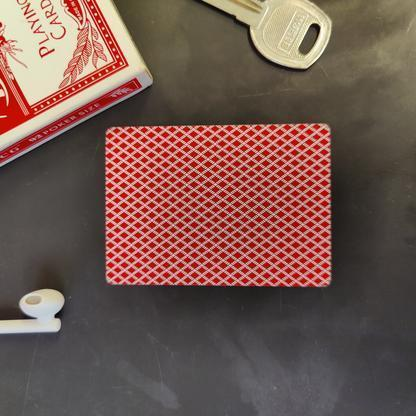card: (100, 121, 335, 292)
